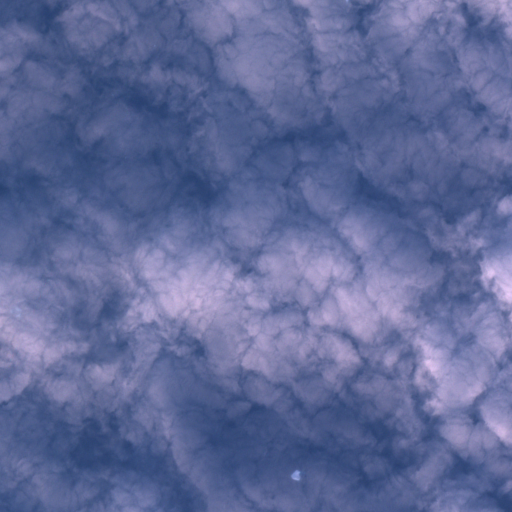Iceberg: (291, 470, 299, 480)
